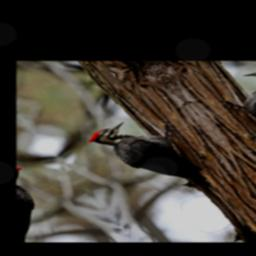Woodpecker: (82, 108, 229, 216)
